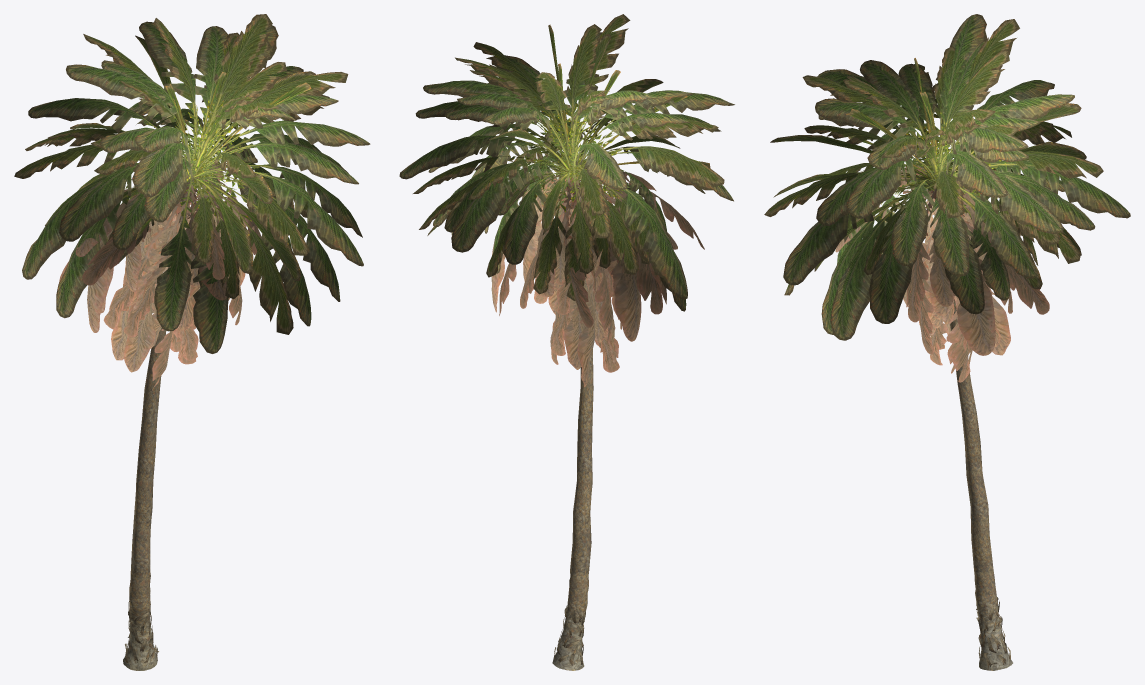
Rendered from bk_palm.glb.
3 views of the same model, side by side, from view 1: azimuth 30°, elevation 25°; view 2: azimuth 150°, elevation 25°; view 3: azimuth 270°, elevation 25° (orthographic). The views are drawn at different scales.
Parts seen in each view (by area): view 1: Palm Tree_M_01_L, Palm Tree_M_01_T; view 2: Palm Tree_M_01_L, Palm Tree_M_01_T; view 3: Palm Tree_M_01_L, Palm Tree_M_01_T.
Part boxes in pixels (<box>): Palm Tree_M_01_L: <box>14,14,370,390</box>; Palm Tree_M_01_T: <box>123,177,191,670</box>; Palm Tree_M_01_L: <box>399,14,734,387</box>; Palm Tree_M_01_T: <box>552,178,593,670</box>; Palm Tree_M_01_L: <box>764,14,1130,382</box>; Palm Tree_M_01_T: <box>950,299,1012,670</box>.
Size of the model in its own units: 7.95 by 15.29 by 8.11.
Materials: 4 (4 with a texture image).
